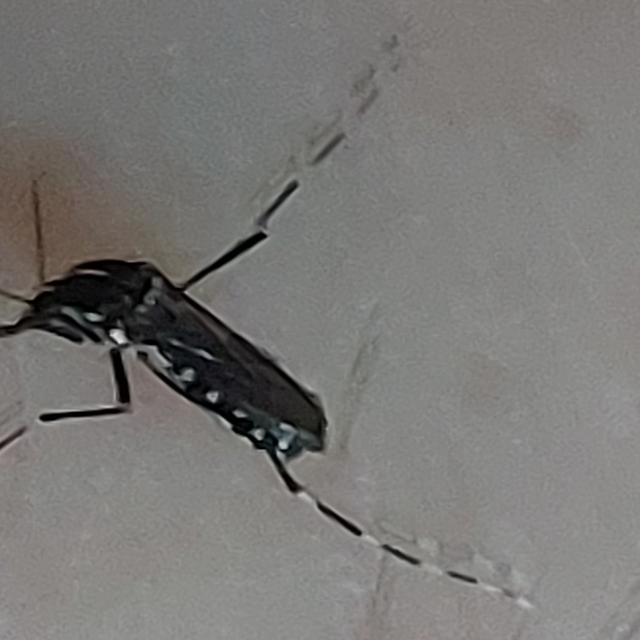albopictus: (4, 120, 473, 590)
